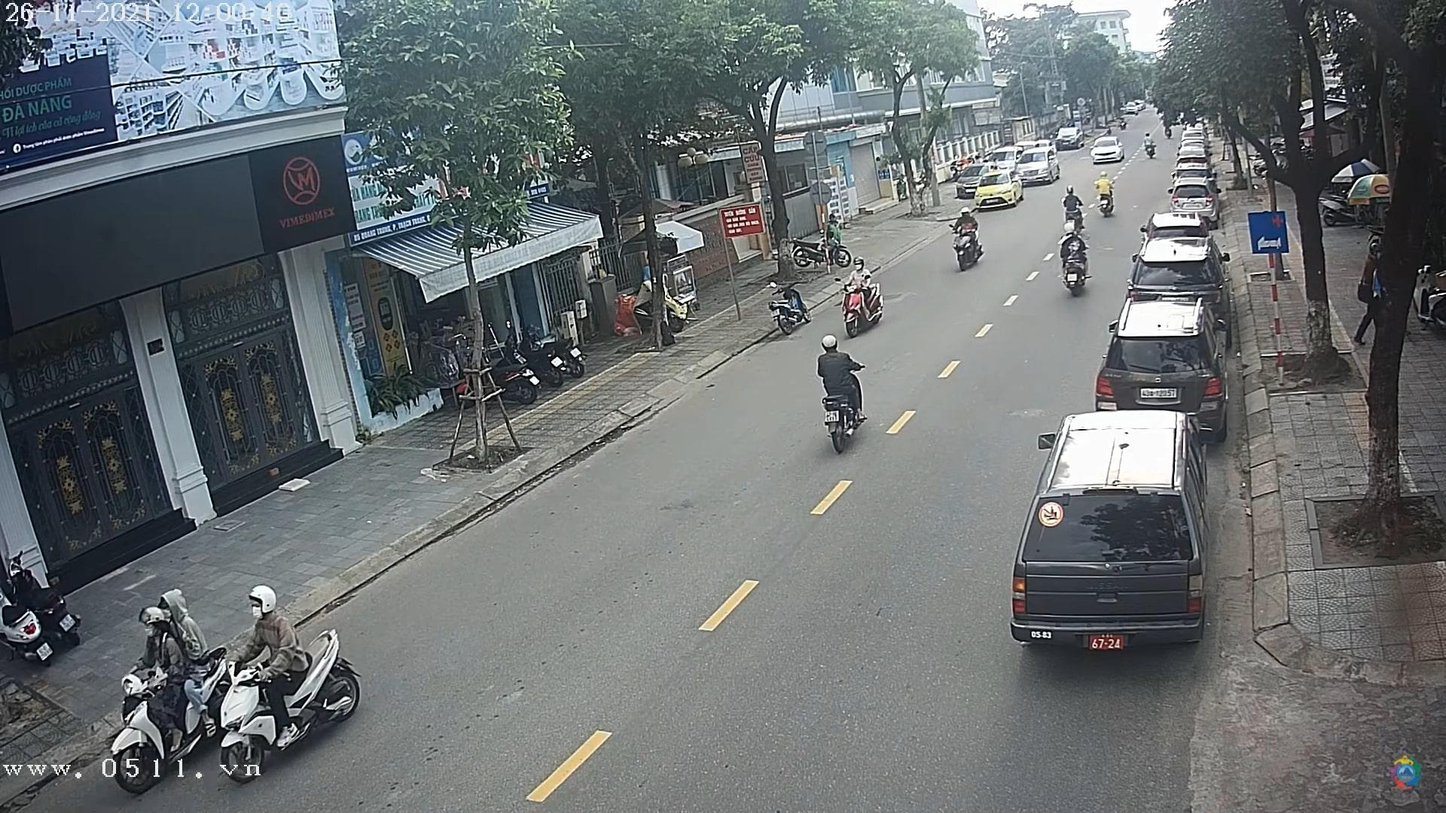car: (1015, 414, 1208, 651), (1097, 300, 1226, 442), (1128, 239, 1230, 301), (1169, 183, 1219, 214), (1167, 166, 1215, 191), (1090, 141, 1123, 165), (1057, 126, 1084, 148)
motorbike: (217, 631, 367, 782), (106, 661, 232, 802), (818, 386, 872, 460), (840, 281, 885, 339), (1059, 245, 1093, 297), (951, 229, 983, 269)
